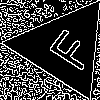F: (38, 22, 99, 73)
